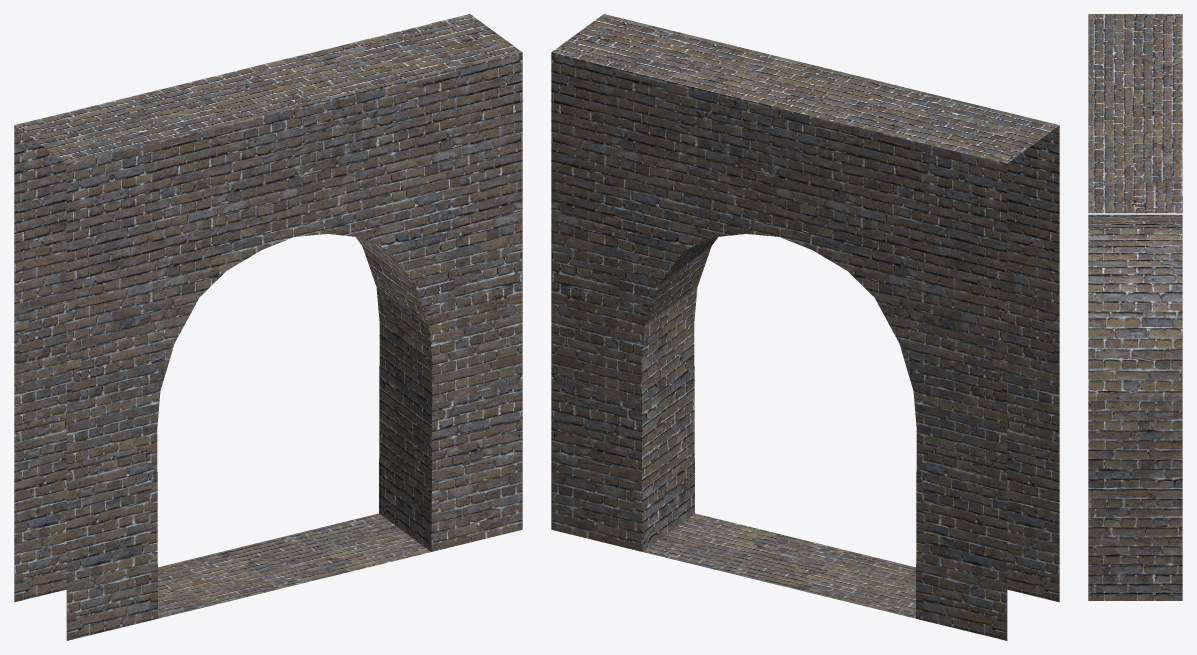
The model's file is Doorway.fbx.
3 renders of one model, left to right at view 1: azimuth 30°, elevation 25°; view 2: azimuth 150°, elevation 25°; view 3: azimuth 270°, elevation 25°, orthographic. The views are drawn at different scales.
Visible parts, largest first — view 1: Doorway; view 2: Doorway; view 3: Doorway.
Boxes of the visible parts, left/top/right/bottom form: Doorway: left=14, top=14, right=522, bottom=640; Doorway: left=551, top=14, right=1059, bottom=640; Doorway: left=1088, top=14, right=1182, bottom=600.
Bounding box in the file's own units: 500 × 500 × 100.
Materials: 1 (1 with a texture image).
